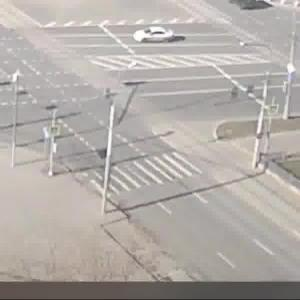car: (134, 24, 180, 47)
